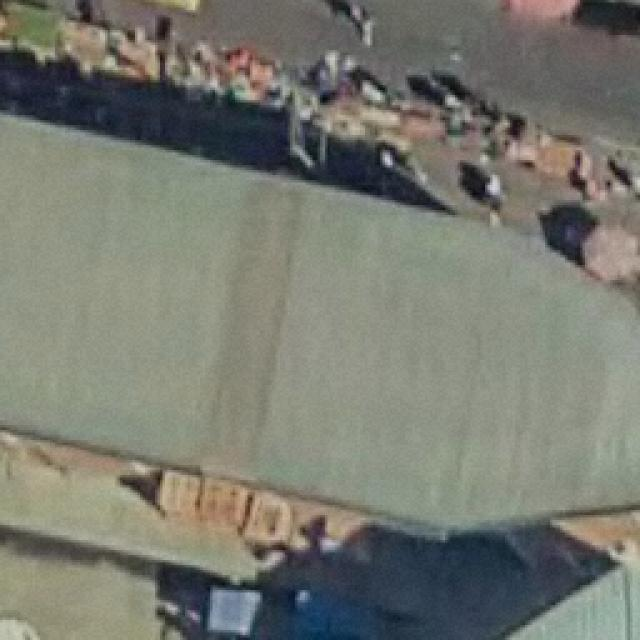vendedor_ambulante: (580, 215, 640, 285)
